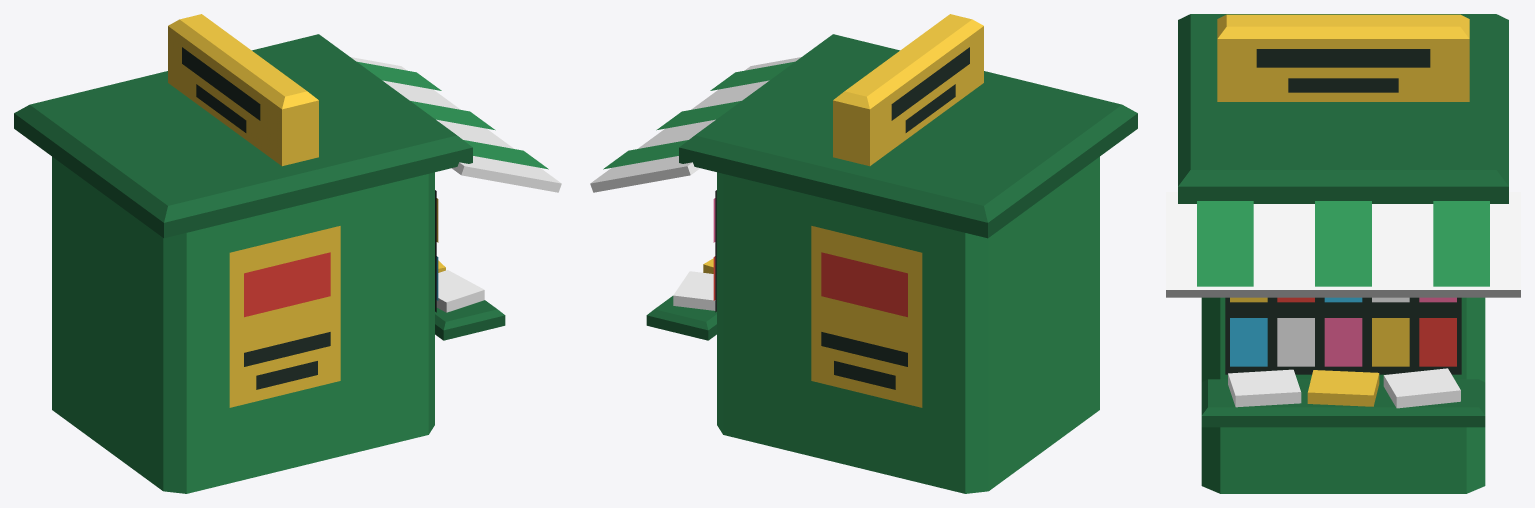
The model's file is newsstand.glb.
3 views of the same model, side by side, from view 1: azimuth 30°, elevation 25°; view 2: azimuth 150°, elevation 25°; view 3: azimuth 270°, elevation 25° (orthographic). The views are drawn at different scales.
Parts seen in each view (by area): view 1: newsstand; view 2: newsstand; view 3: newsstand.
Boxes of the visible parts, x1,y1,x2,y2 form: newsstand: (14,14,561,493); newsstand: (590,14,1137,493); newsstand: (1166,14,1520,493).
Size of the model in its own units: 0.3188 by 0.28 by 0.225.
